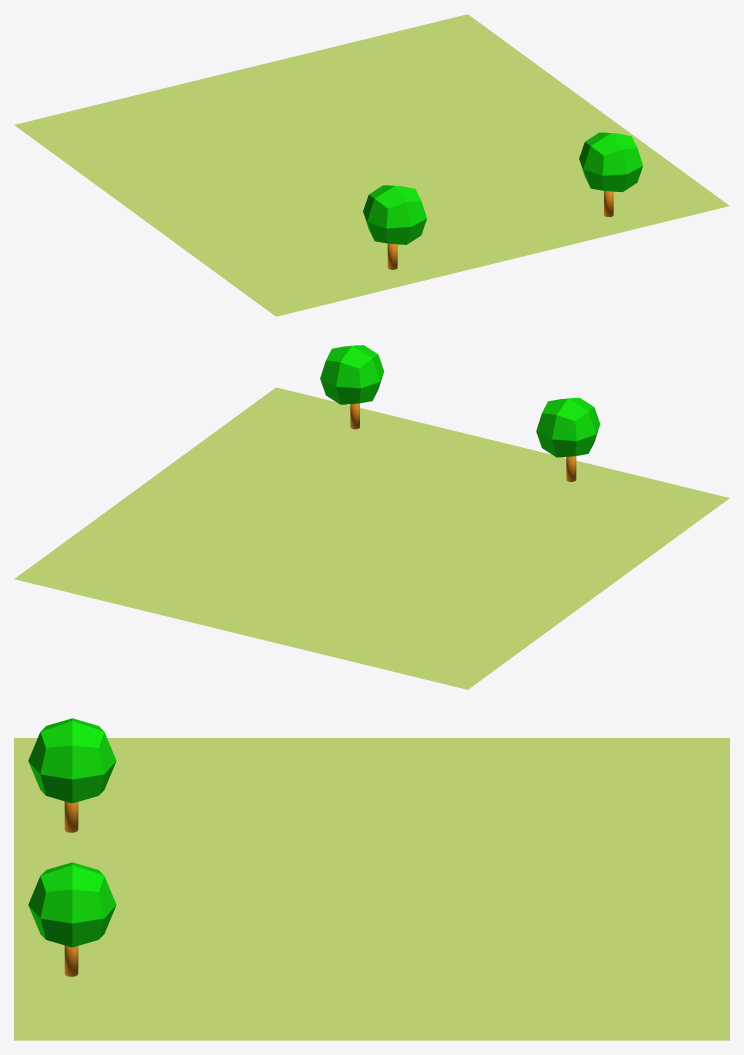
3 renders of one model, top to bottom at view 1: azimuth 30°, elevation 25°; view 2: azimuth 150°, elevation 25°; view 3: azimuth 270°, elevation 25°, orthographic. The views are drawn at different scales.
Parts seen in each view (by area): view 1: Plane, Cube, Cube.001; view 2: Plane, Cube, Cube.001; view 3: Plane, Cube.001, Cube.
Boxes of the visible parts, <box> form: Plane: <box>14,14,729,316</box>; Cube: <box>579,132,642,192</box>; Cube.001: <box>363,185,426,244</box>; Plane: <box>14,387,729,689</box>; Cube: <box>320,345,384,404</box>; Cube.001: <box>536,397,600,457</box>; Plane: <box>14,738,729,1040</box>; Cube.001: <box>28,718,116,803</box>; Cube: <box>28,862,116,947</box>.
Bounding box in the file's own units: 5.92 × 1.01 × 5.92.
